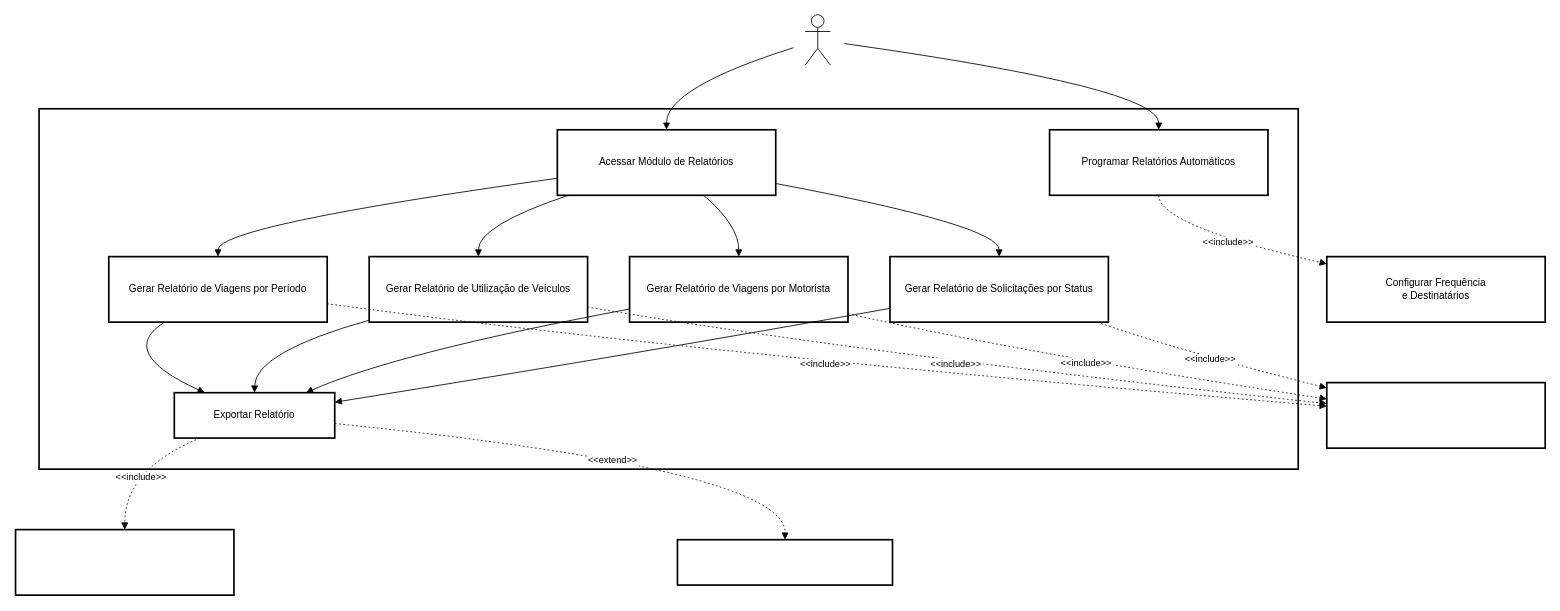
This 1560x611 diagram has some shape labels left out. Each missing label, with the box of its shape:
Enviar Relatório por Email: (676, 538, 893, 585)
Gestor: (804, 14, 830, 65)
Selecionar Formato de Exportação: (14, 528, 234, 596)
Selecionar Período de Análise: (1326, 381, 1546, 449)
